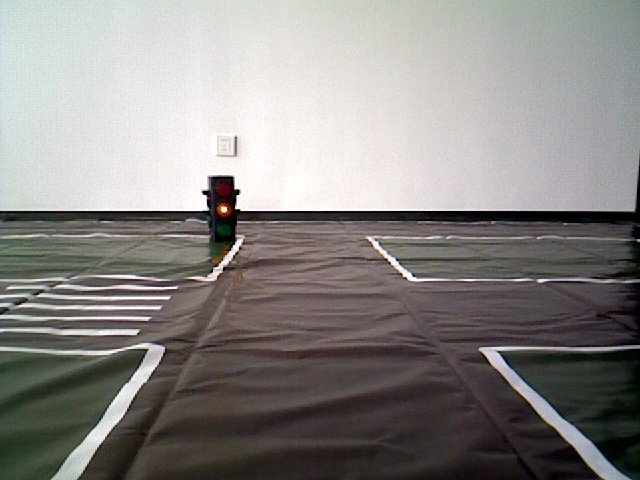yellow: (201, 175, 239, 245)
